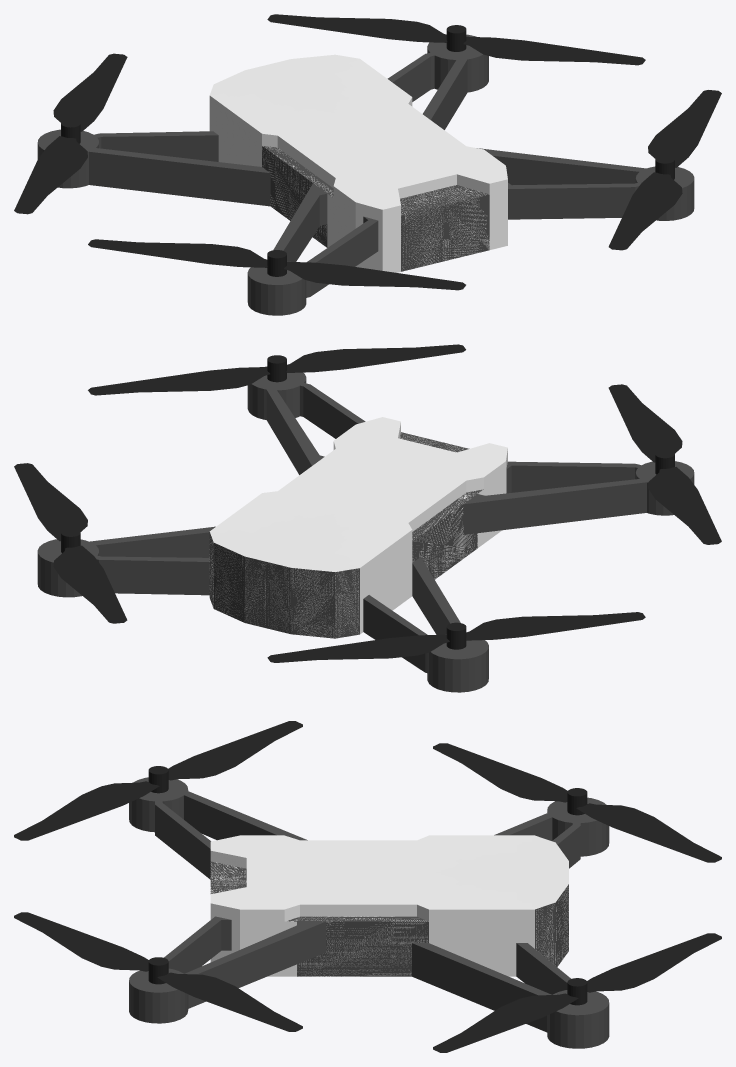
File: center.dae
3 renders of one model, top to bottom at view 1: azimuth 30°, elevation 25°; view 2: azimuth 150°, elevation 25°; view 3: azimuth 270°, elevation 25°, orthographic.
Parts seen in each view (by area): view 1: Component (×10), Component1 (×9); view 2: Component (×9), Component1 (×8); view 3: Component1 (×9), Component (×8).
Part boxes in pixels (x1,y1,x2,y2): Component (×10): (14,53,465,315); Component1 (×9): (267,14,721,260); Component (×9): (267,384,721,692); Component1 (×8): (14,344,465,628); Component1 (×9): (14,872,721,1052); Component (×8): (14,721,721,883).
Size of the model in its own units: 4.88 by 4.7 by 0.5413.
3 materials, 1 textured.
